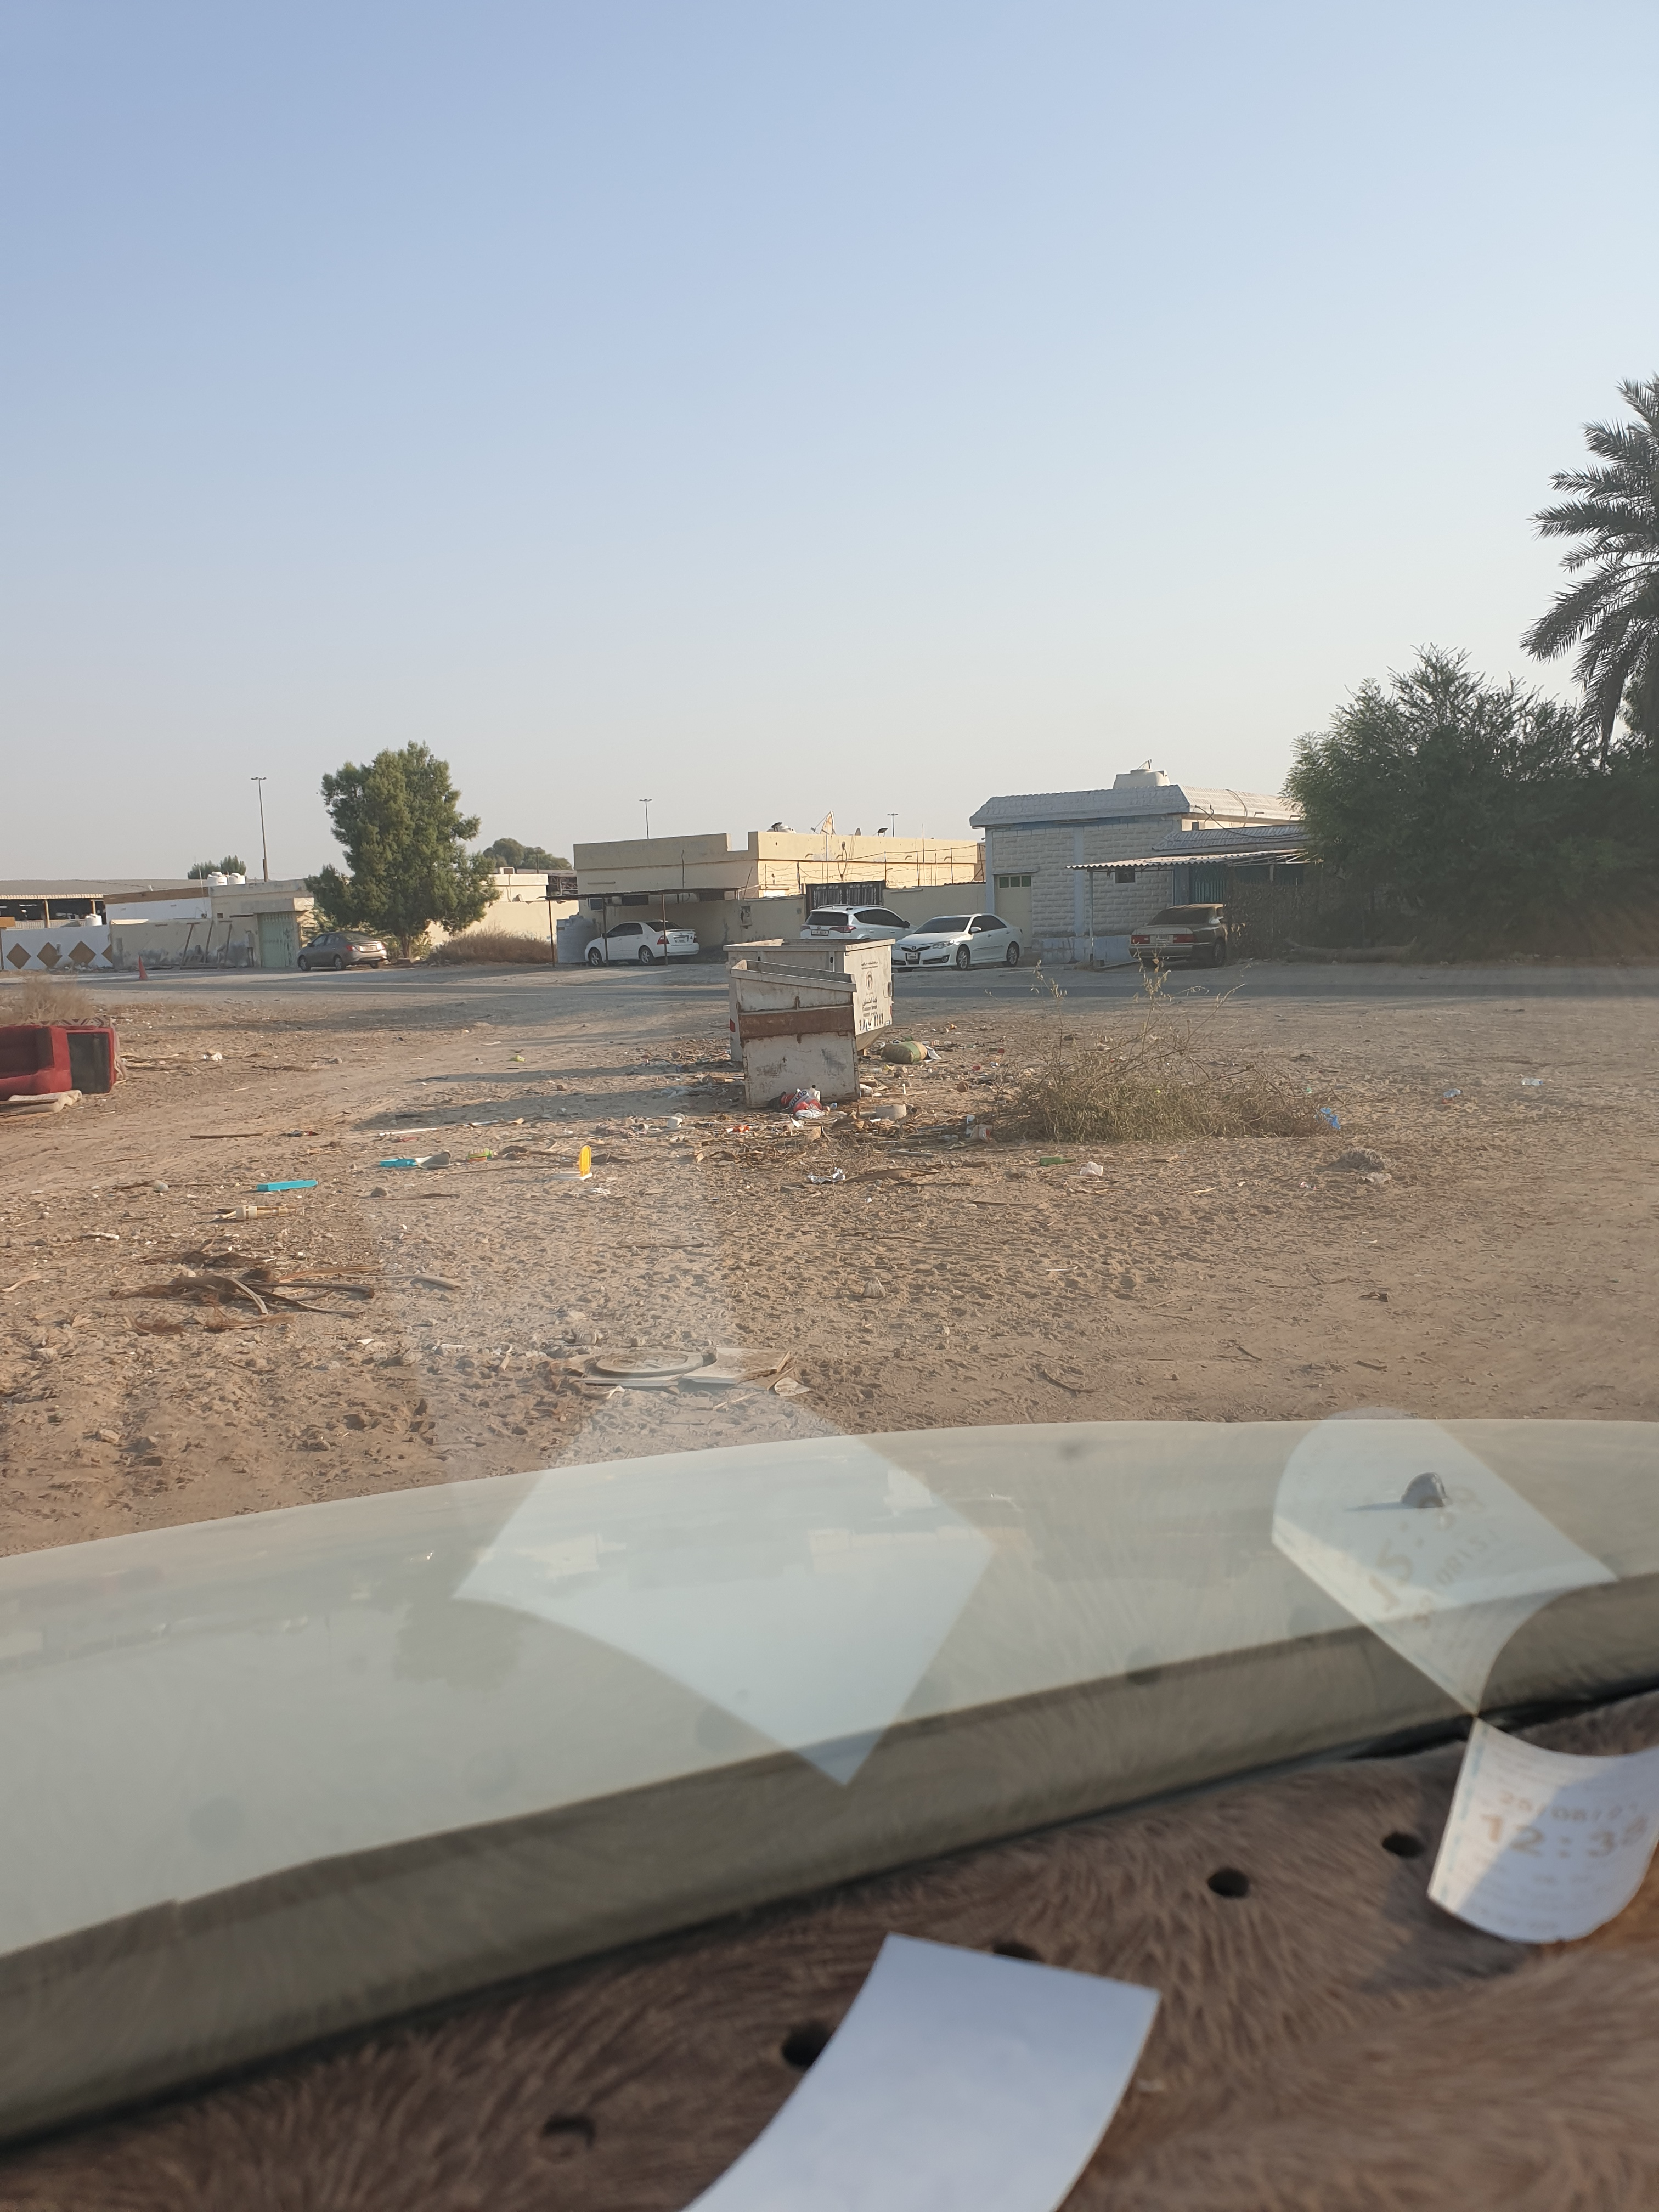fallen_trees: (983, 1012, 1389, 1184), (929, 1080, 1384, 1179), (171, 1205, 399, 1332)
